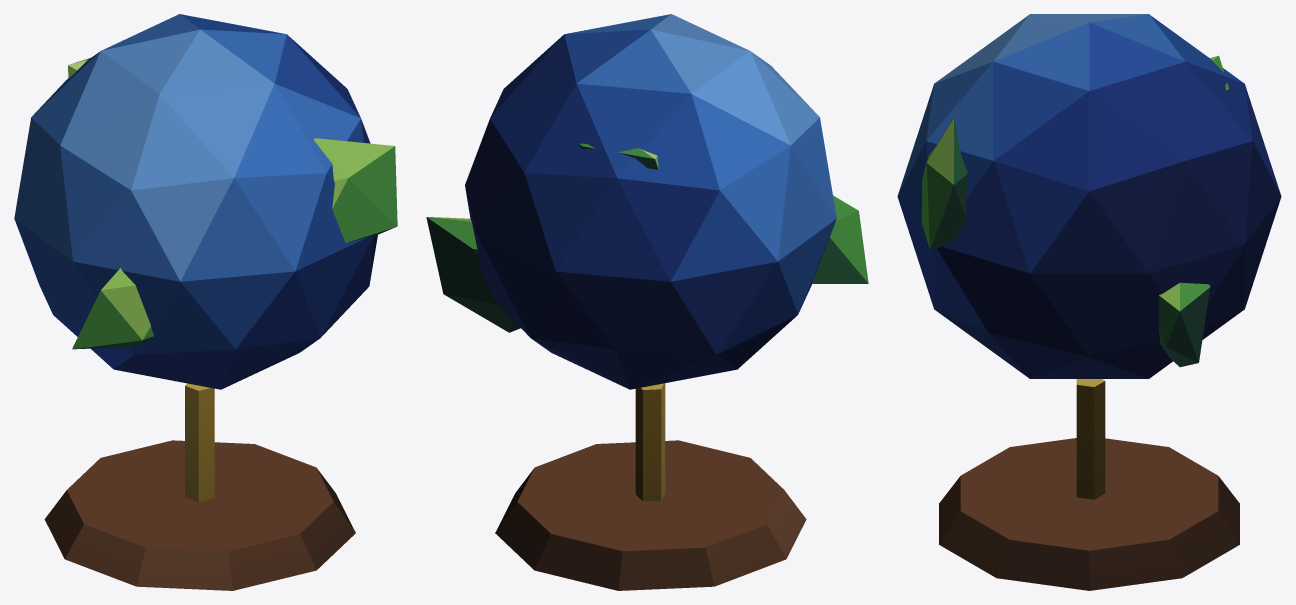
File: globe.glb
3 renders of one model, left to right at view 1: azimuth 30°, elevation 25°; view 2: azimuth 150°, elevation 25°; view 3: azimuth 270°, elevation 25°, orthographic.
Visible parts, largest first — view 1: globe; view 2: globe; view 3: globe.
Part boxes in pixels (bbox=[...]): globe: bbox=[14, 14, 397, 590]; globe: bbox=[426, 14, 868, 590]; globe: bbox=[897, 14, 1281, 590].
Size of the model in its own units: 0.3644 by 0.49 by 0.34.
